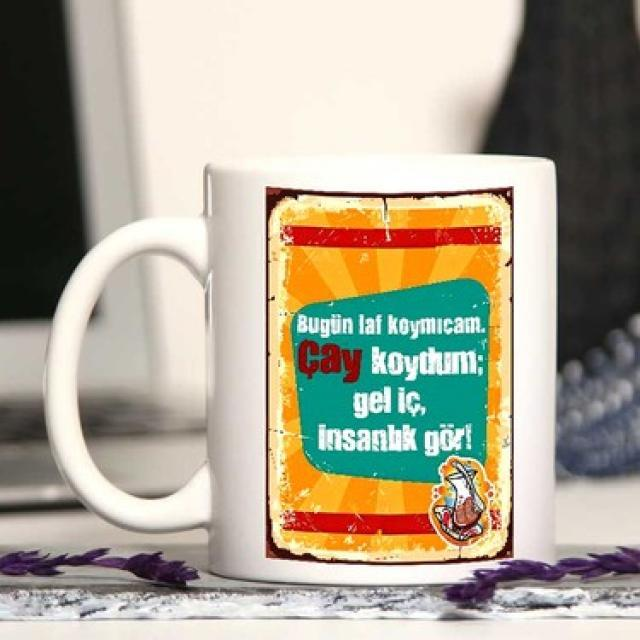Coffee Mug: (38, 148, 558, 594)
